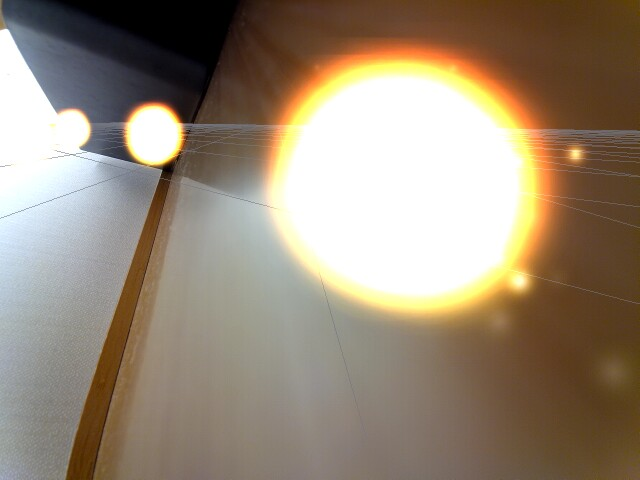firebig: (224, 28, 570, 361)
